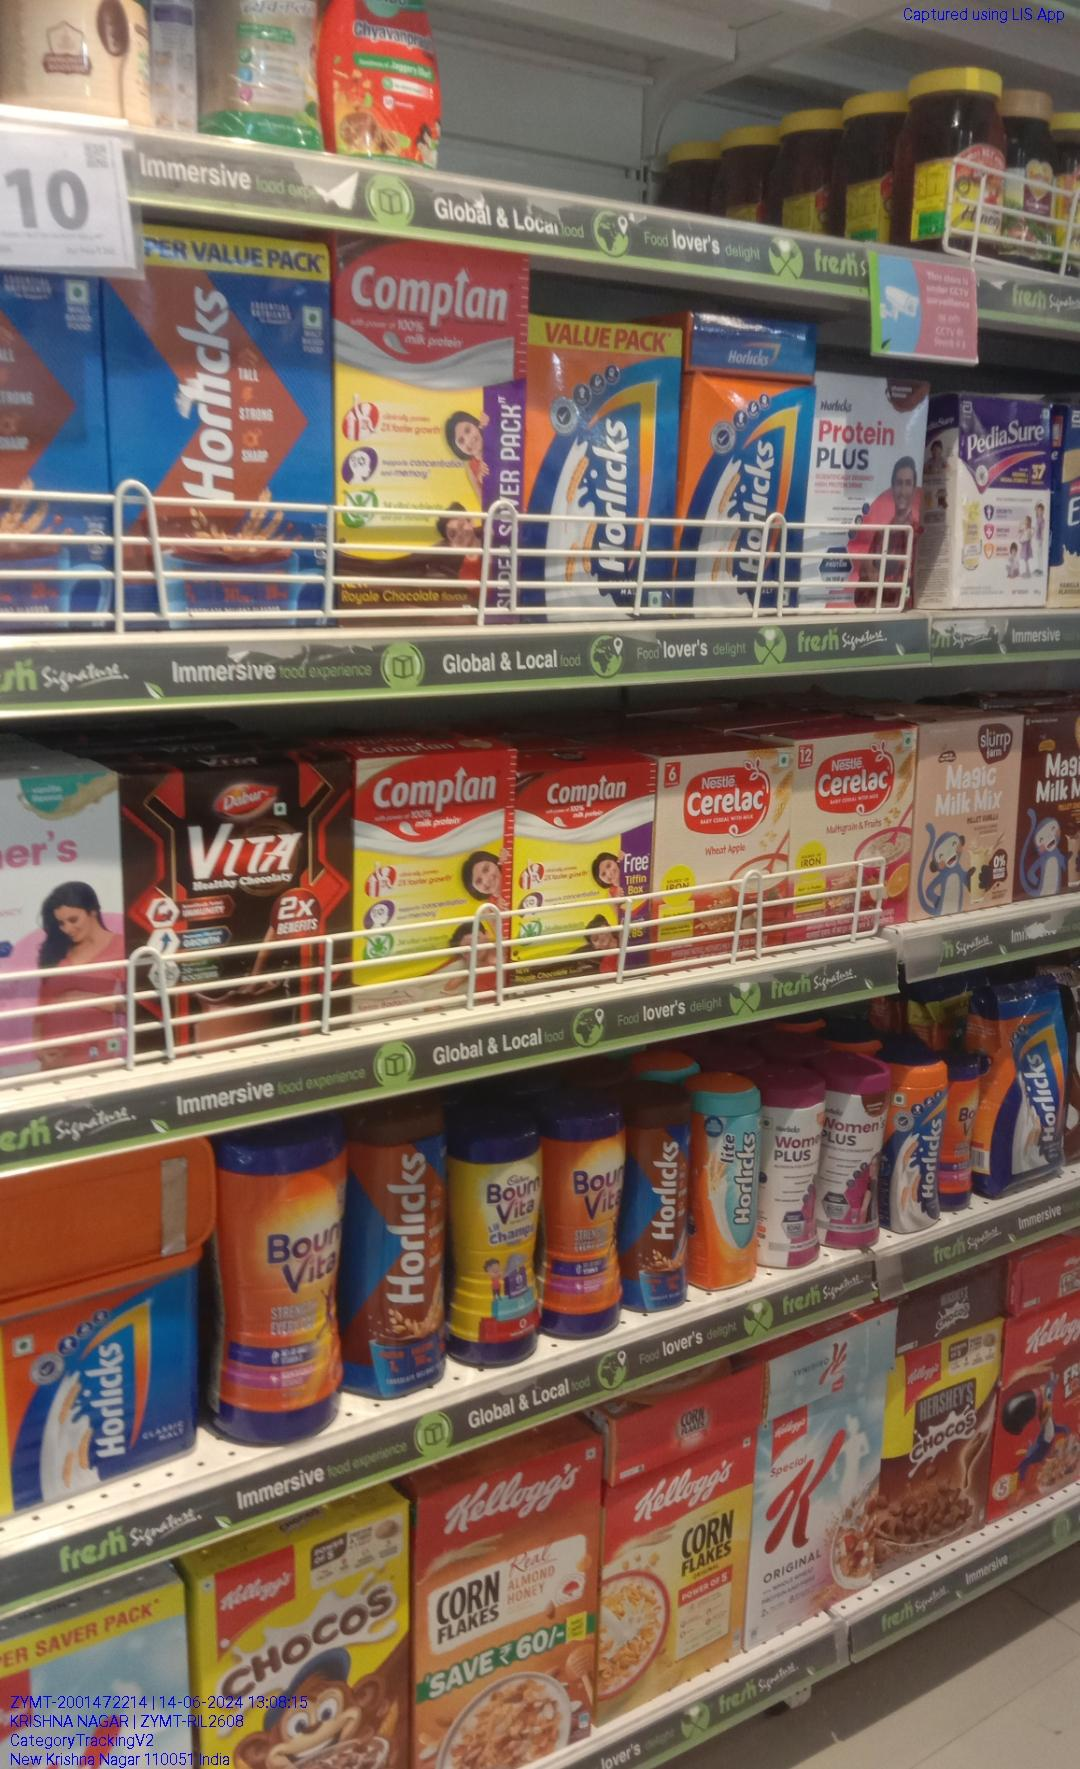BOURN_VITA_CHAMPS_500_G_JAR: (461, 1121, 541, 1368)
HORLICKS_LITE_REGULAR_MALT_500_GM_JAR: (704, 1083, 753, 1289)
HORLICK_CHOCOLATE_1_KG_JAR: (349, 1103, 446, 1396)
HORLICK_CHOCOLATE_500_G_JAR: (630, 1088, 688, 1319)
HORLICK_CLASSIC_MALT_500_G_JAR: (893, 1060, 945, 1226)
